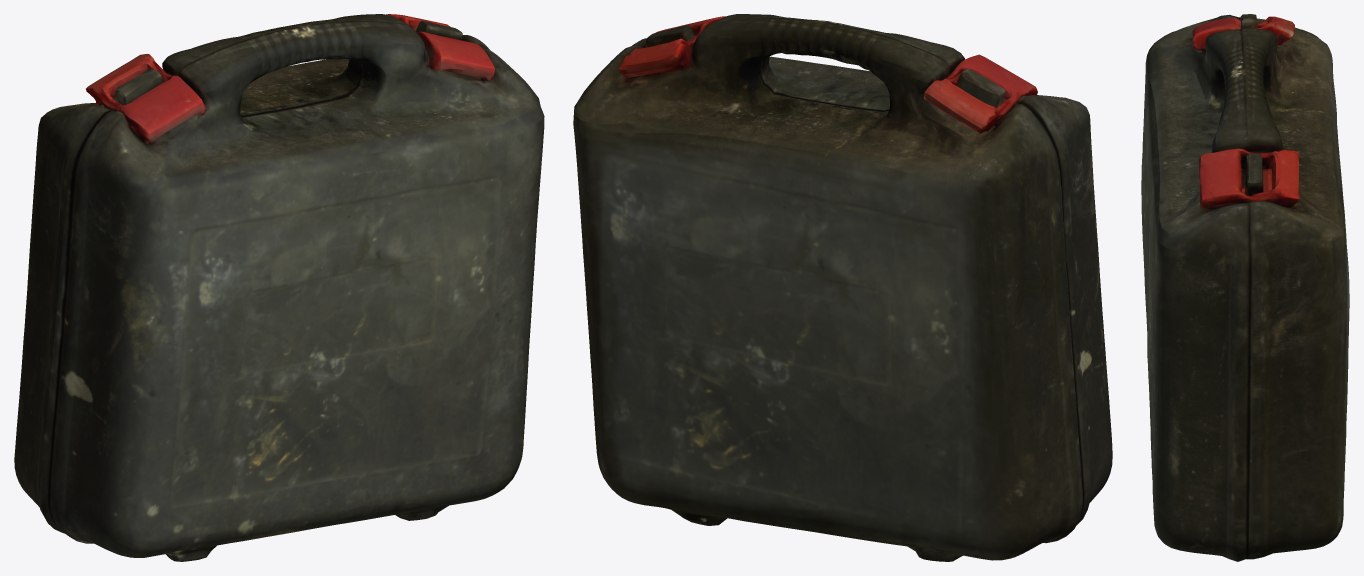
Rendered from toolbox 1.fbx.
3 renders of one model, left to right at view 1: azimuth 30°, elevation 25°; view 2: azimuth 150°, elevation 25°; view 3: azimuth 270°, elevation 25°, orthographic. The views are drawn at different scales.
Parts seen in each view (by area): view 1: Object_3, Object_2; view 2: Object_3, Object_2; view 3: Object_3, Object_2.
Part boxes in pixels (x1,y1,x2,y2): Object_3: (14,14,544,561); Object_2: (86,20,462,561); Object_3: (573,14,1112,561); Object_2: (619,25,1035,133); Object_3: (1141,14,1349,561); Object_2: (1190,14,1299,198).
Size of the model in its own units: 2036 by 2028 by 896.
